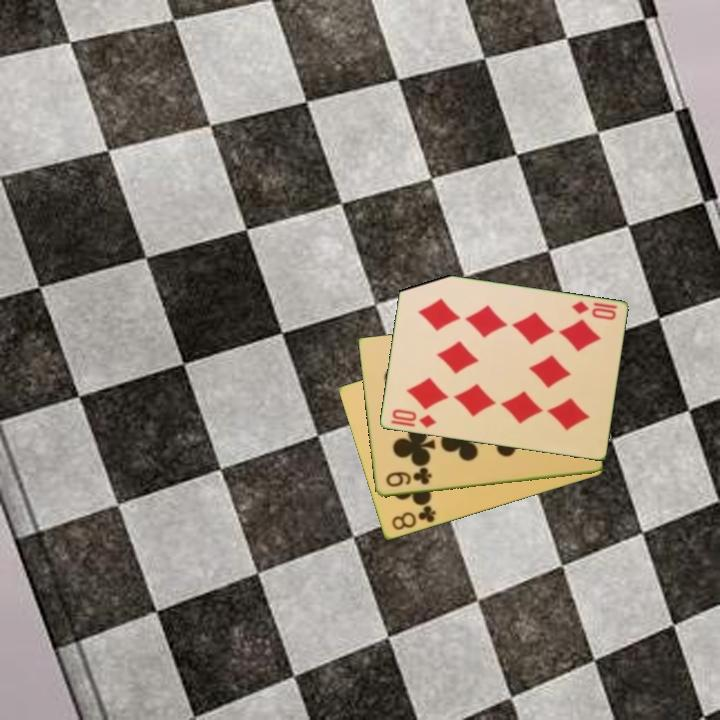10d: (568, 298, 620, 323), (388, 406, 439, 431)
8c: (388, 502, 439, 533)
9c: (382, 466, 435, 490)
